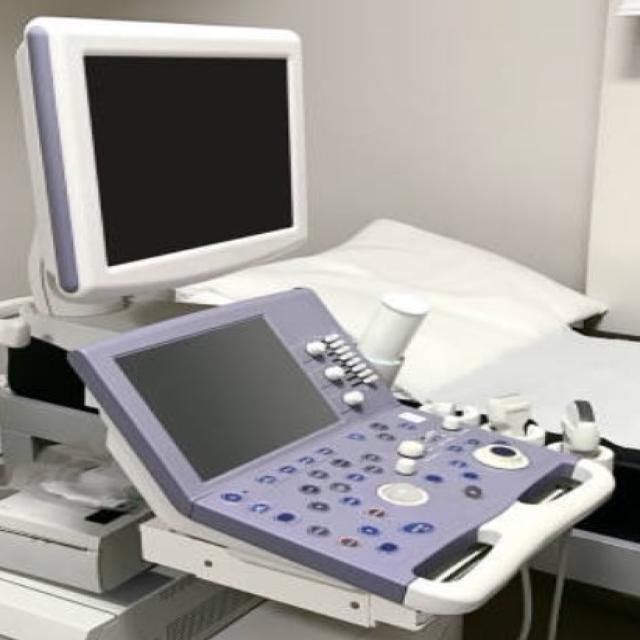Monitor: (68, 312, 602, 640), (0, 6, 322, 333)
bed: (178, 221, 639, 639)
